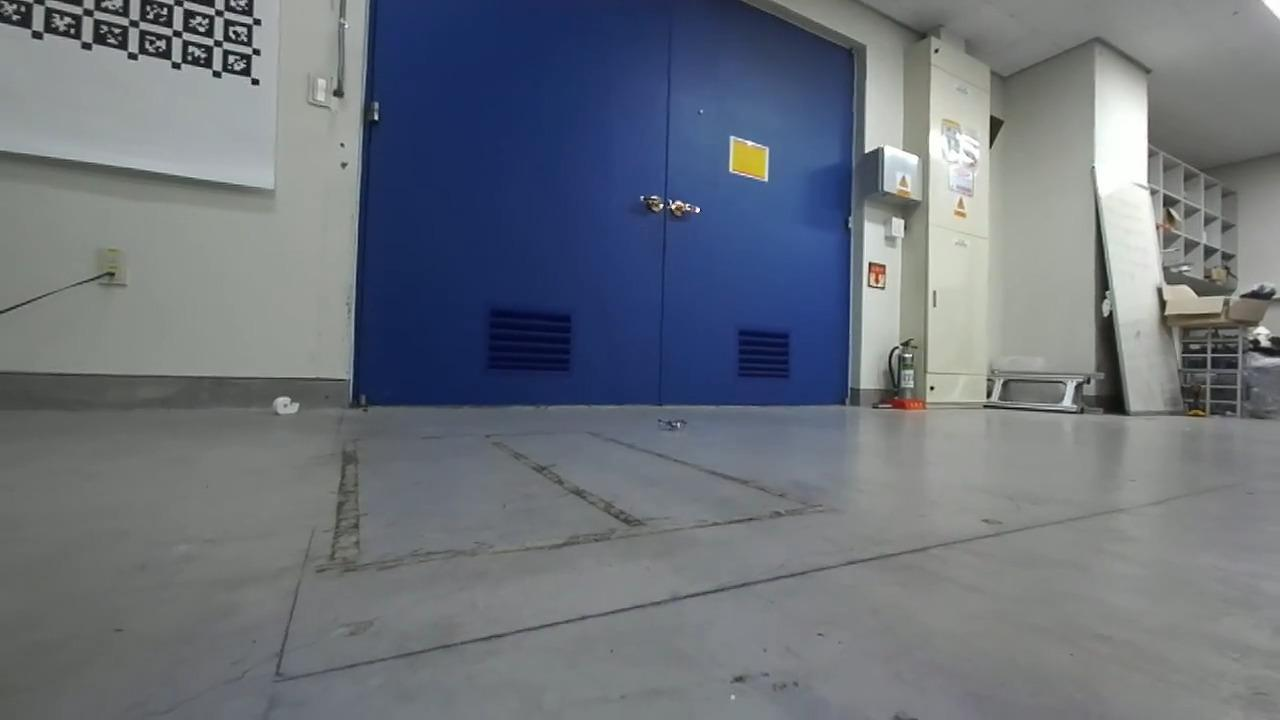crazyflie: (648, 410, 695, 438)
